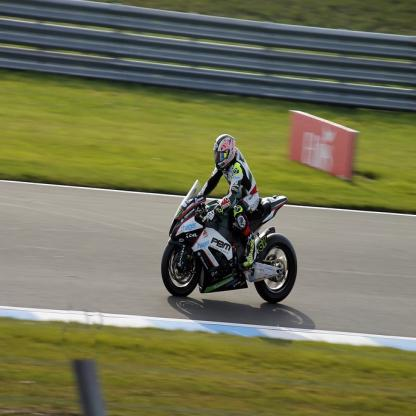Helmet: (214, 132, 236, 170)
